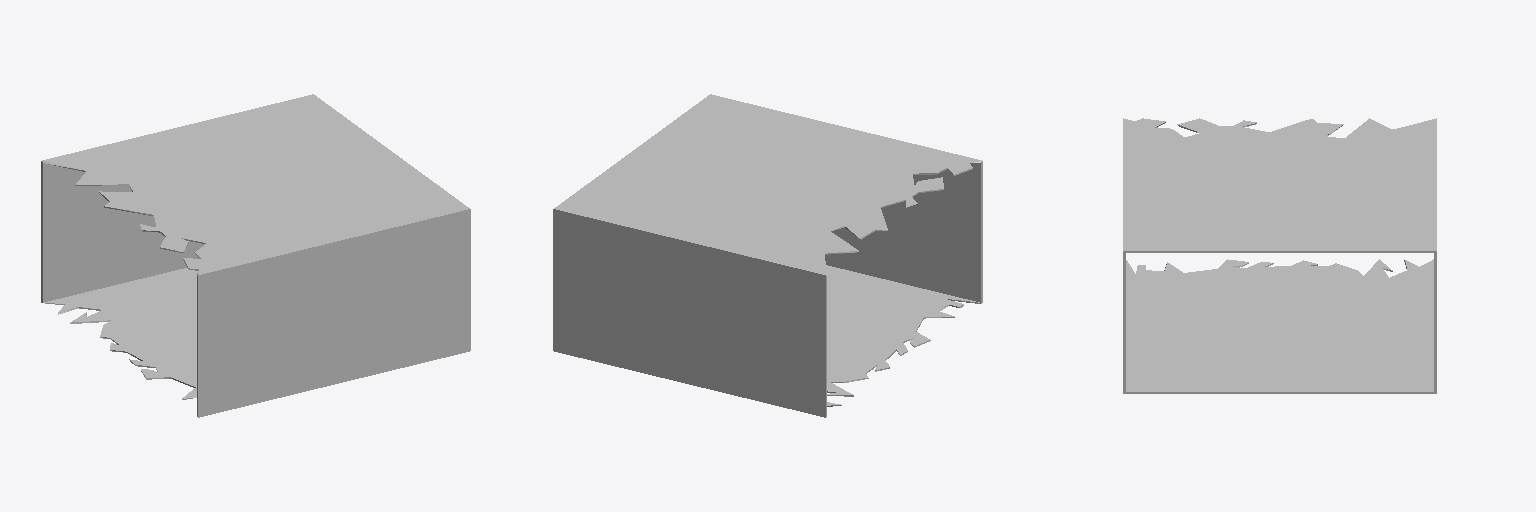
The model's file is CuartoD.obj.
3 views of the same model, side by side, from view 1: azimuth 30°, elevation 25°; view 2: azimuth 150°, elevation 25°; view 3: azimuth 270°, elevation 25° (orthographic).
Parts seen in each view (by area): view 1: Cube_Cube.001; view 2: Cube_Cube.001; view 3: Cube_Cube.001.
Boxes of the visible parts, box(x1,y1,x2,y2) form: Cube_Cube.001: box(41, 94, 470, 417); Cube_Cube.001: box(553, 94, 982, 417); Cube_Cube.001: box(1123, 118, 1436, 393).
Size of the model in its own units: 20 by 10 by 19.95.